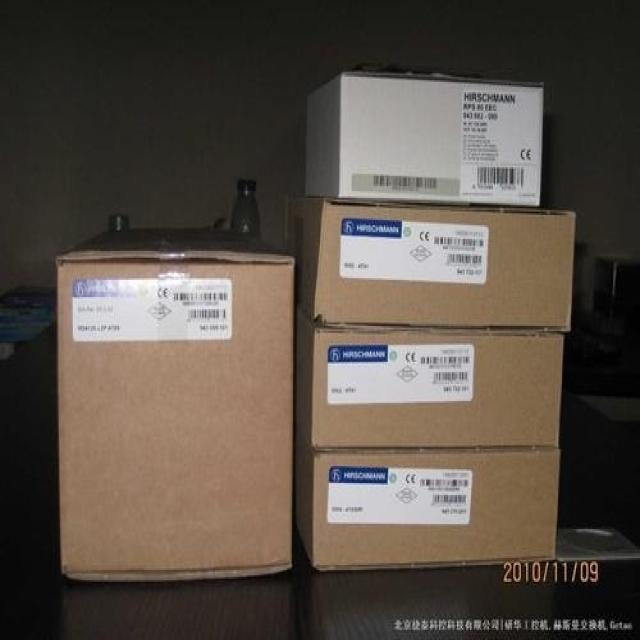box: (57, 226, 295, 572), (289, 300, 566, 448), (292, 193, 578, 331), (291, 425, 559, 568), (305, 72, 545, 205)
